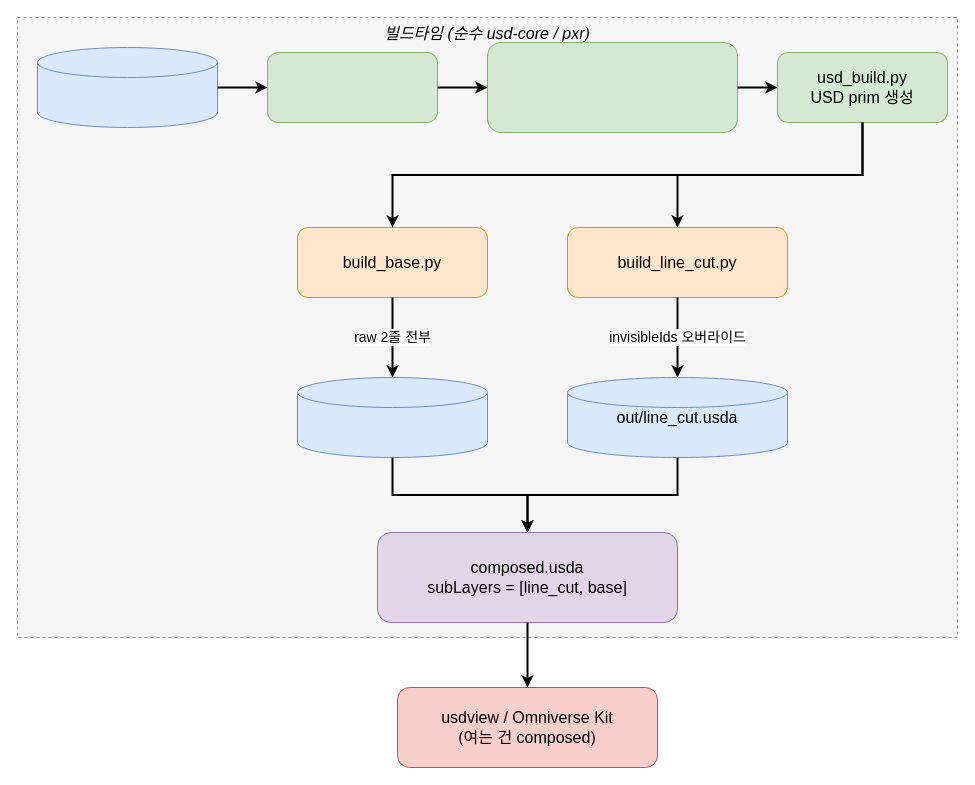
Some shapes in this 975 by 785 pixel diagram are drawn without their labels. Each missing label, with the centre of its shape:
"geometry.py 기하·hide 계산 dual_rail_segments_tagged" goes at (x=612, y=87).
"input/fab_map/*.map" goes at (x=127, y=87).
"mapio.py 맵 파싱" goes at (x=352, y=87).
"out/base.usda" goes at (x=392, y=417).
